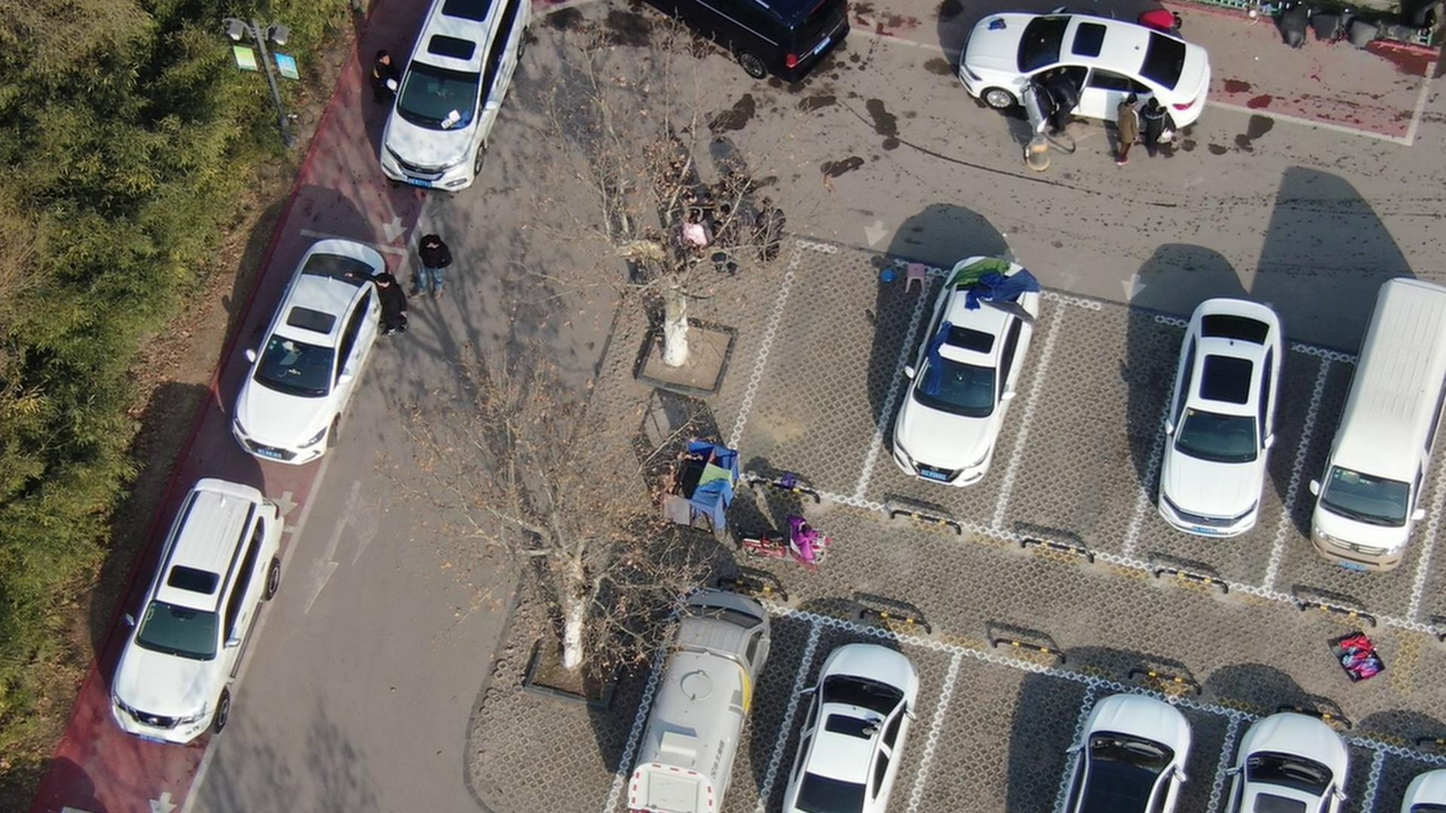human: (749, 188, 793, 265), (1047, 56, 1085, 142), (1152, 81, 1188, 160), (1113, 93, 1150, 169), (415, 231, 456, 299), (372, 42, 413, 107), (377, 265, 413, 337), (713, 202, 747, 278)
